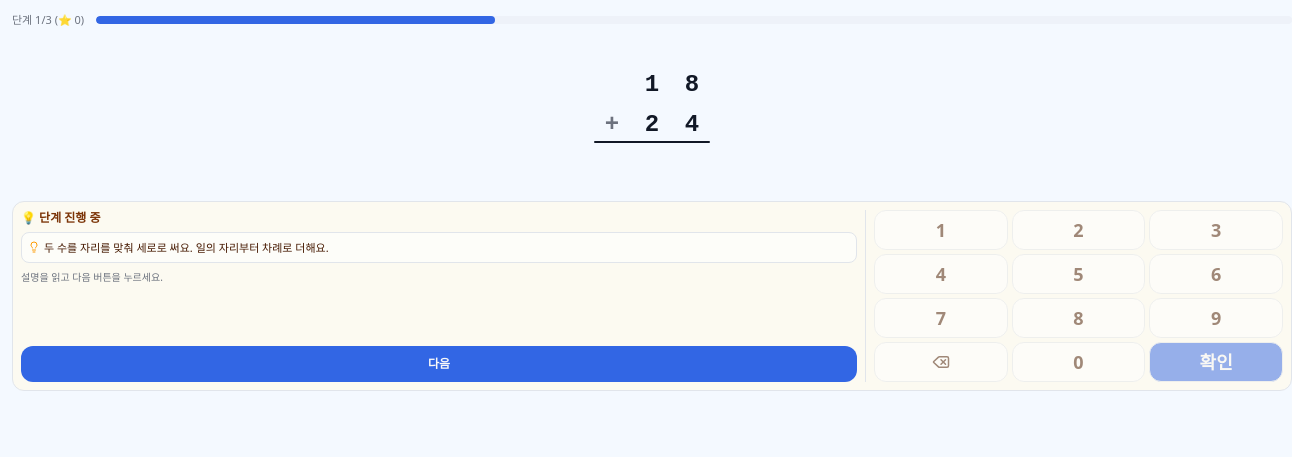
Scenario: SolveSession — records attempt on completion › records exactly one attempt when a run completes, with correct score
Click the button "다음". click: (439, 364)
box: [21,346,857,382]
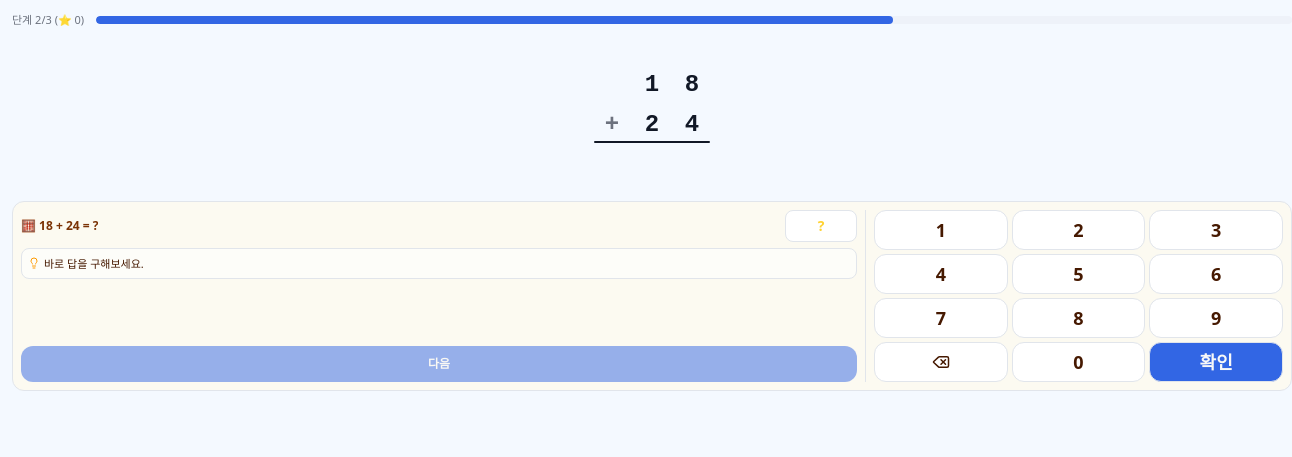
Click the button "4". click: (941, 274)
box: [874,254,1008,294]
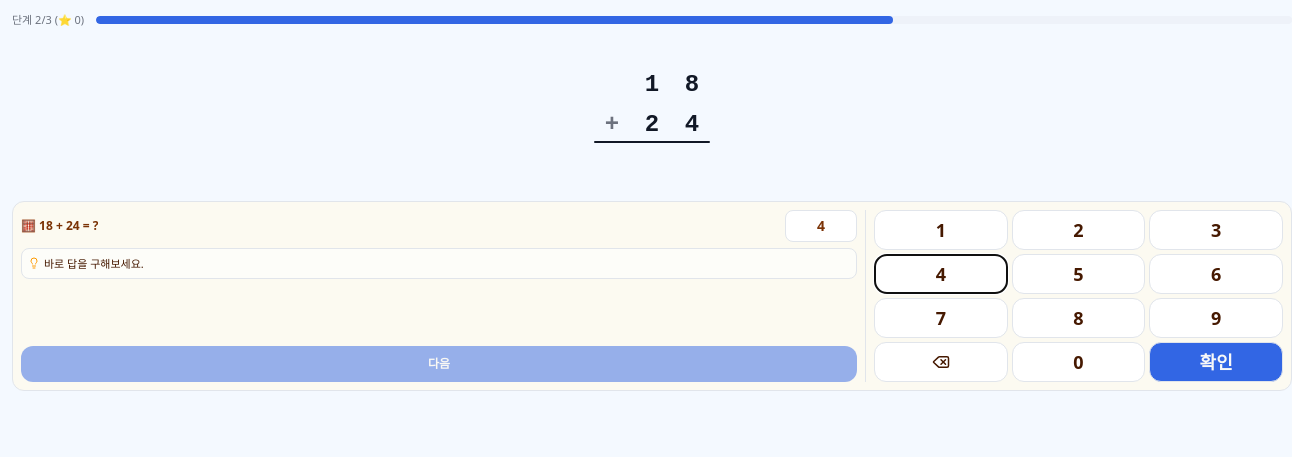
Click the button "2". click: (1079, 230)
box: [1012,210,1145,250]
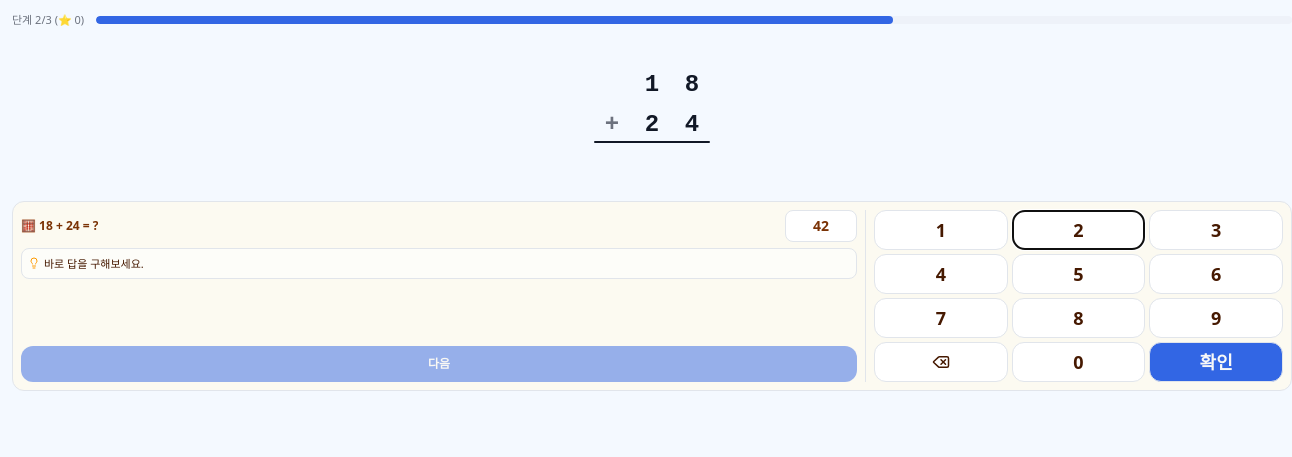
Click the button "확인". click: (1216, 362)
box: [1149,342,1283,382]
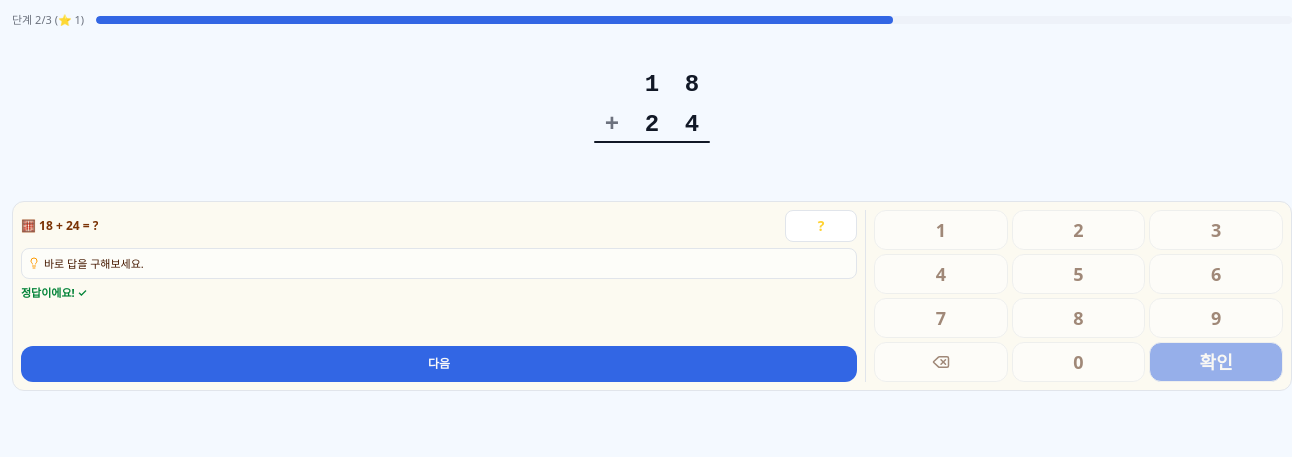
Click the button "다음". click: (439, 364)
box: [21,346,857,382]
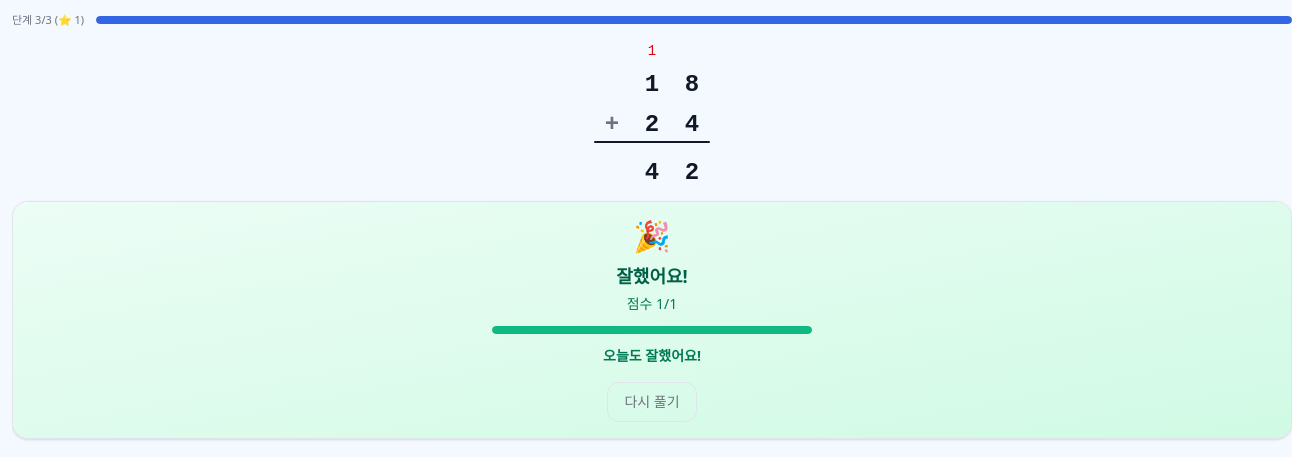
Expected: the button "다시 풀기" is shown, [607,382,697,422]
